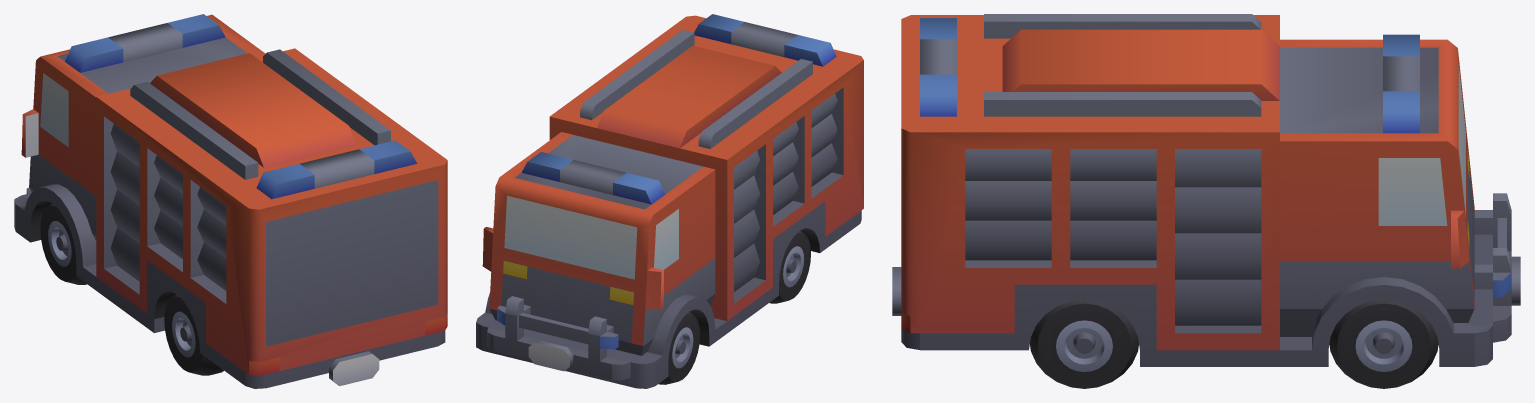
File: firetruck.fbx
3 views of the same model, side by side, from view 1: azimuth 30°, elevation 25°; view 2: azimuth 150°, elevation 25°; view 3: azimuth 270°, elevation 25° (orthographic). The views are drawn at different scales.
Parts seen in each view (by area): view 1: body; view 2: body; view 3: body.
Part boxes in pixels (box(x1,y1,x2,y2)): body: box(14, 14, 447, 388); body: box(476, 14, 863, 388); body: box(892, 14, 1520, 388).
Bounding box in the file's own units: 0.4412 × 0.5 × 1.
